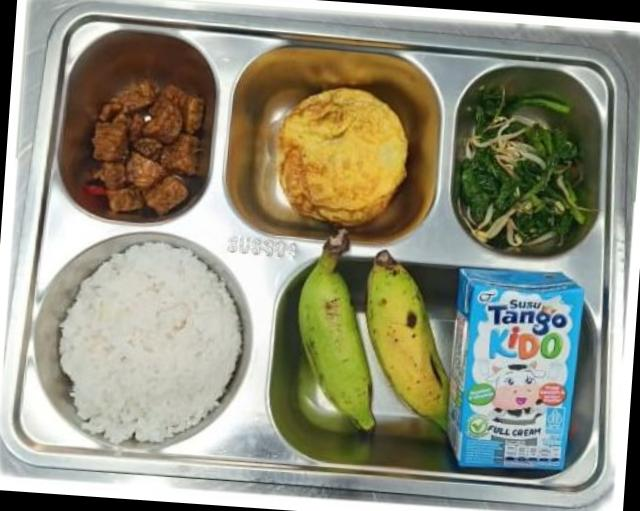nasi: (59, 243, 242, 442)
sayur: (456, 83, 598, 254), (366, 250, 449, 430)
susu: (447, 269, 584, 469)
telur: (277, 88, 407, 227)
tempe: (70, 78, 205, 217)
